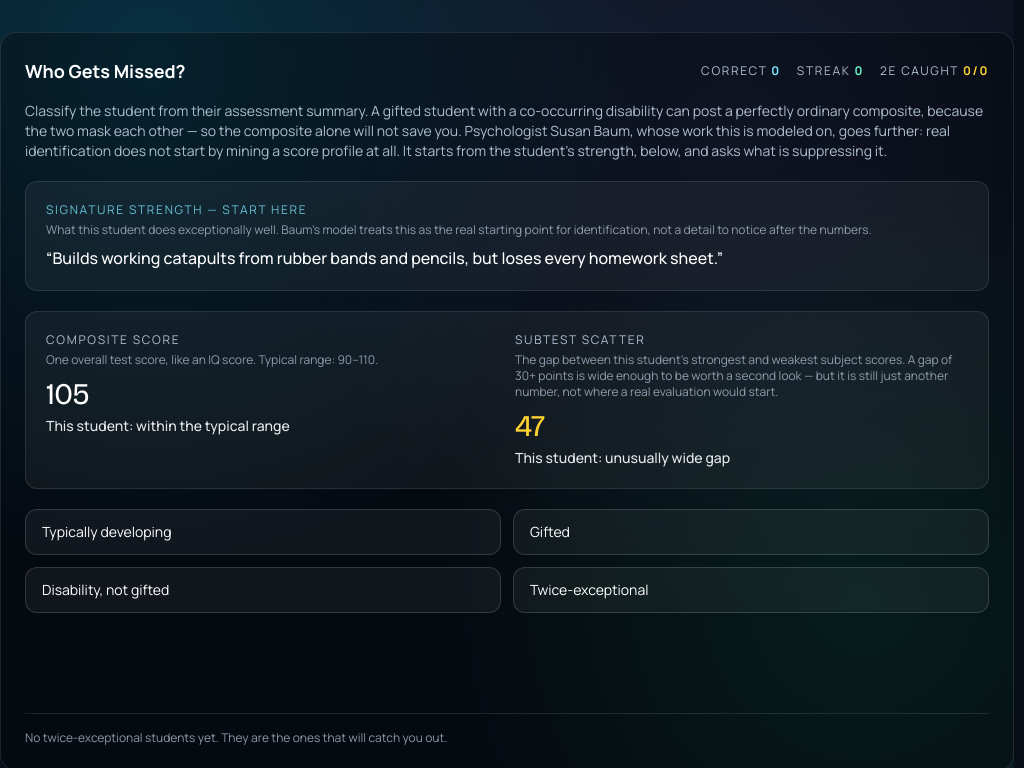
Test: TwiceExceptionalGame — non-expert comprehension › advances to a new case and resets the result state when "Next student" is clicked
Click the button with test id "te-option-gifted" at (550, 532), box [513,509,989,555]
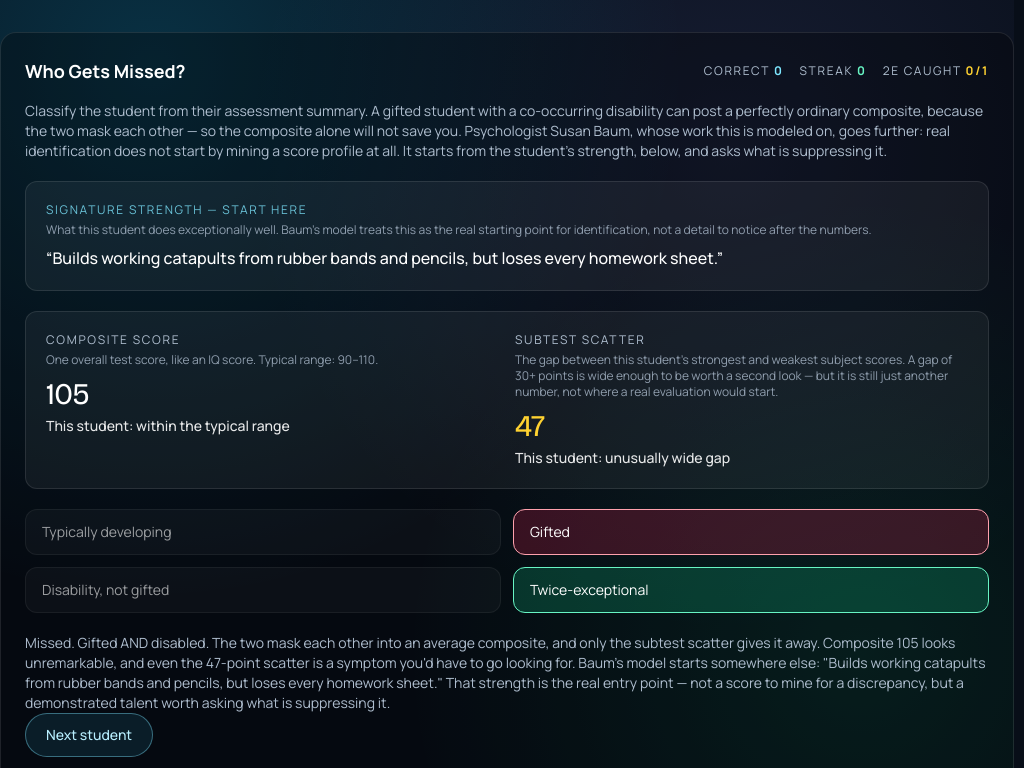
Click the button with test id "te-next" at (89, 735), box [25,713,153,757]
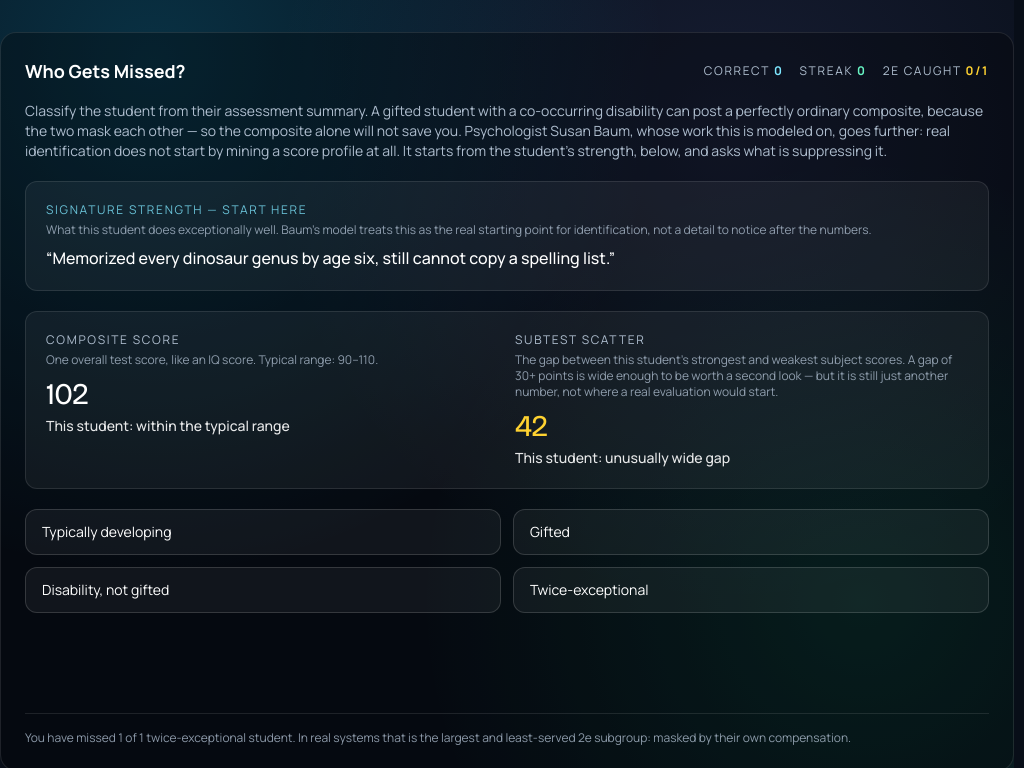
Expected: the button with test id "te-next" is gone
